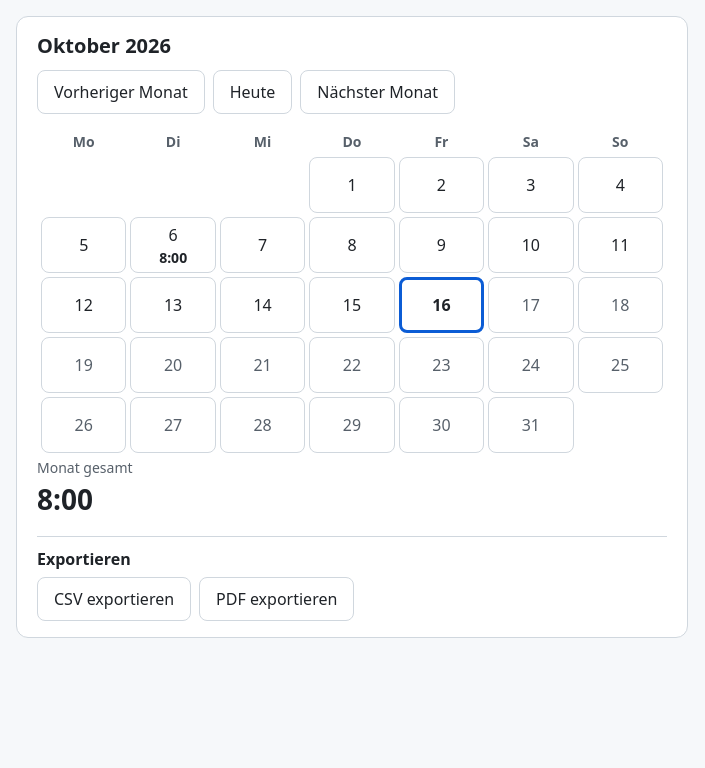
Test case: CalendarView export › shows the failure toast when rendering the PDF fails and re-enables the button
The width and height of the screenshot is (705, 768).
Expected: the button "CSV exportieren" is enabled, [37,577,191,621]
Step 1. Click the button "PDF exportieren" → (277, 599), box [199,577,354,621]
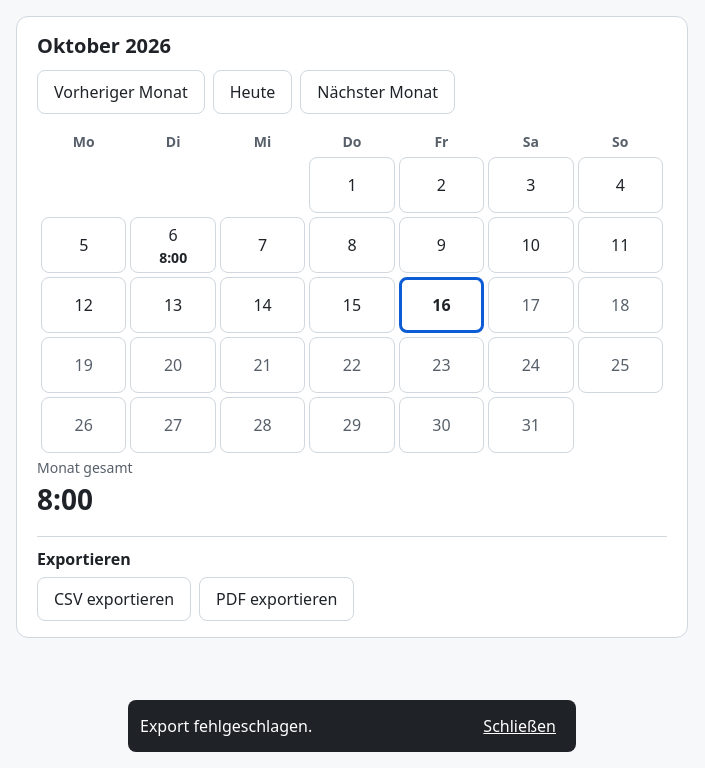
Expected: the text "Export fehlgeschlagen." is shown, [140,714,312,738]
